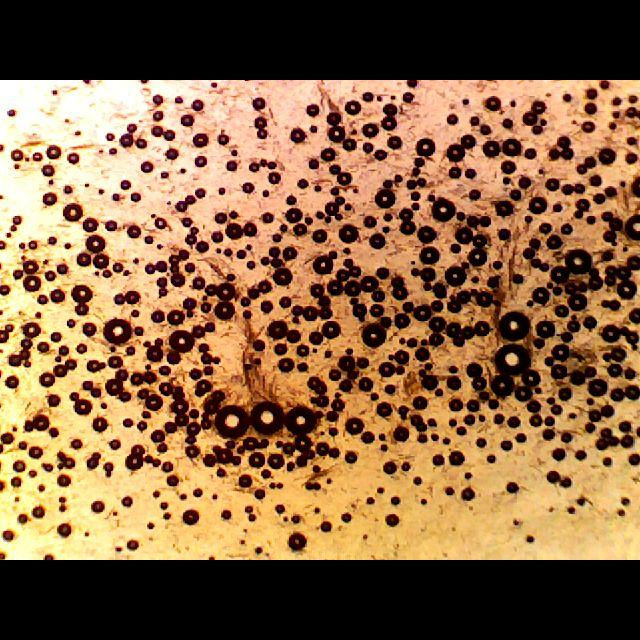microbeads: (213, 402, 250, 438), (250, 401, 286, 437), (494, 344, 532, 378), (494, 309, 534, 339), (100, 312, 134, 346), (285, 405, 319, 437), (168, 326, 194, 356), (565, 250, 591, 278), (363, 325, 393, 347)
